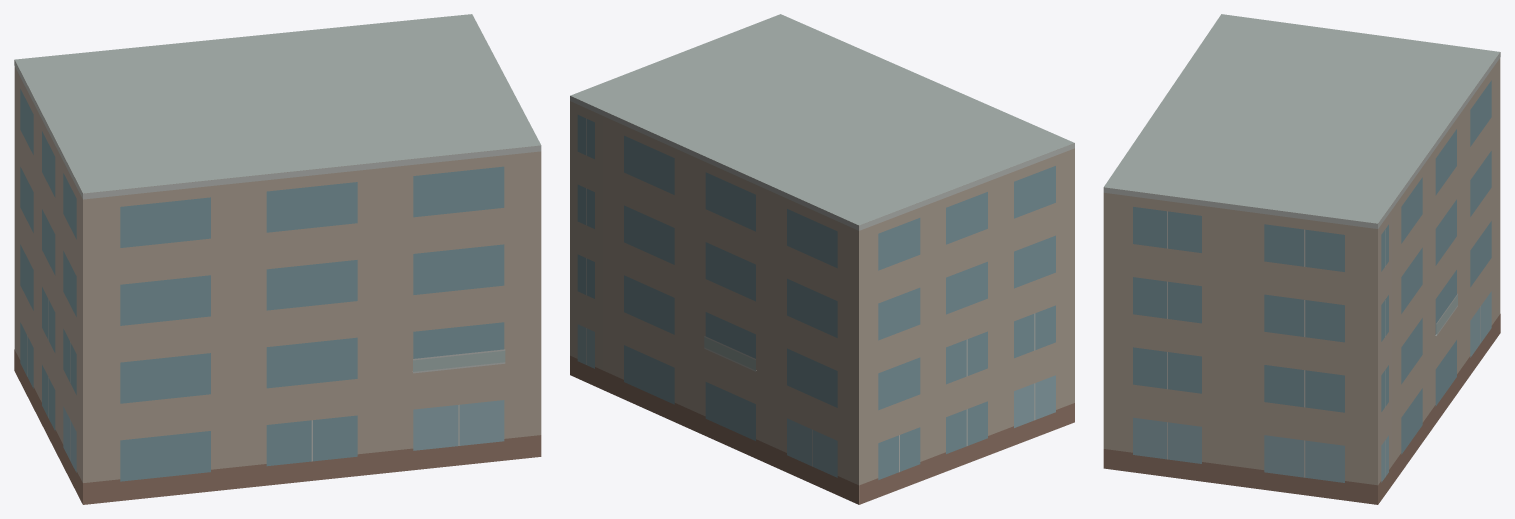
File: survey-upis-32685805.glb
3 renders of one model, left to right at view 1: azimuth 30°, elevation 25°; view 2: azimuth 150°, elevation 25°; view 3: azimuth 270°, elevation 25°, orthographic. The views are drawn at different scales.
Visible parts, largest first — view 1: survey-upis-32685805.tmp; view 2: survey-upis-32685805.tmp; view 3: survey-upis-32685805.tmp.
Part boxes in pixels (x1,y1,x2,y2): survey-upis-32685805.tmp: (14, 14, 541, 504); survey-upis-32685805.tmp: (570, 14, 1074, 504); survey-upis-32685805.tmp: (1103, 14, 1500, 504).
Bounding box in the file's own units: 20.33 × 12.7 × 16.26.
